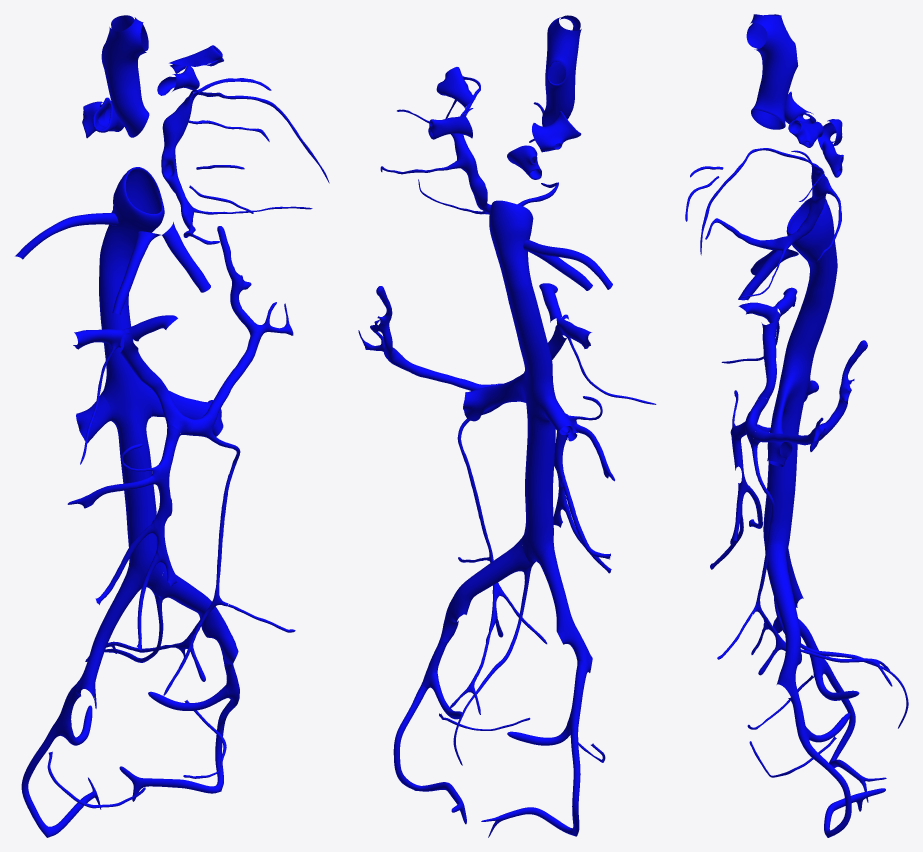
Rendered from female-venous.glb.
3 renders of one model, left to right at view 1: azimuth 30°, elevation 25°; view 2: azimuth 150°, elevation 25°; view 3: azimuth 270°, elevation 25°, orthographic. The views are drawn at different scales.
Visible parts, largest first — view 1: VH_F_inferior_vena_cava_b, VH_F_superior_vena_cava, VH_F_splenic_vein, VH_F_inferior_vena_cava_a, VH_F_left_common_iliac_vein, VH_F_right_common_iliac_vein, VH_F_superior_mesenteric_vein, VH_F_coronary_sinus, VH_F_inferior_mesenteric_vein, VH_F_hepatic_portal_vein, VH_F_right_hepatic_vein, VH_F_left_renal_vein (+17 smaller); view 2: VH_F_inferior_vena_cava_b, VH_F_superior_vena_cava, VH_F_inferior_vena_cava_a, VH_F_left_common_iliac_vein, VH_F_right_common_iliac_vein, VH_F_splenic_vein, VH_F_left_renal_vein, VH_F_coronary_sinus, VH_F_pulmonary_vein_R_sup, VH_F_inferior_mesenteric_vein, VH_F_right_hepatic_vein, VH_F_pulmonary_vein_L_sup (+11 smaller); view 3: VH_F_inferior_vena_cava_b, VH_F_superior_vena_cava, VH_F_left_common_iliac_vein, VH_F_splenic_vein, VH_F_inferior_vena_cava_a, VH_F_left_renal_vein, VH_F_coronary_sinus, VH_F_inferior_mesenteric_vein, VH_F_hepatic_portal_vein, VH_F_superior_mesenteric_vein, VH_F_internal_pudendal_vein_L, VH_F_left_hepatic_vein (+15 smaller).
Boxes of the visible parts, bbox=[...] form: VH_F_inferior_vena_cava_b: bbox=[99, 236, 163, 588]; VH_F_superior_vena_cava: bbox=[101, 15, 149, 137]; VH_F_splenic_vein: bbox=[168, 226, 293, 438]; VH_F_inferior_vena_cava_a: bbox=[105, 167, 164, 251]; VH_F_left_common_iliac_vein: bbox=[150, 564, 238, 665]; VH_F_right_common_iliac_vein: bbox=[76, 568, 142, 699]; VH_F_superior_mesenteric_vein: bbox=[153, 423, 180, 587]; VH_F_coronary_sinus: bbox=[161, 92, 195, 212]; VH_F_inferior_mesenteric_vein: bbox=[171, 433, 240, 656]; VH_F_hepatic_portal_vein: bbox=[120, 333, 174, 423]; VH_F_right_hepatic_vein: bbox=[15, 213, 118, 259]; VH_F_left_renal_vein: bbox=[150, 388, 223, 436]; VH_F_inferior_vena_cava_b: bbox=[501, 269, 556, 564]; VH_F_superior_vena_cava: bbox=[542, 15, 581, 126]; VH_F_inferior_vena_cava_a: bbox=[489, 200, 533, 270]; VH_F_left_common_iliac_vein: bbox=[439, 536, 530, 641]; VH_F_right_common_iliac_vein: bbox=[539, 543, 592, 672]; VH_F_splenic_vein: bbox=[358, 286, 502, 390]; VH_F_left_renal_vein: bbox=[463, 375, 525, 421]; VH_F_coronary_sinus: bbox=[450, 133, 491, 214]; VH_F_pulmonary_vein_R_sup: bbox=[532, 111, 581, 152]; VH_F_inferior_mesenteric_vein: bbox=[457, 404, 502, 633]; VH_F_right_hepatic_vein: bbox=[523, 240, 612, 289]; VH_F_pulmonary_vein_L_sup: bbox=[436, 67, 475, 108]; VH_F_inferior_vena_cava_b: bbox=[763, 252, 837, 554]; VH_F_superior_vena_cava: bbox=[746, 14, 798, 129]; VH_F_left_common_iliac_vein: bbox=[765, 544, 801, 697]; VH_F_splenic_vein: bbox=[745, 340, 867, 451]; VH_F_inferior_vena_cava_a: bbox=[786, 197, 836, 269]; VH_F_left_renal_vein: bbox=[767, 378, 793, 466]; VH_F_coronary_sinus: bbox=[780, 163, 830, 250]; VH_F_inferior_mesenteric_vein: bbox=[751, 446, 801, 651]; VH_F_hepatic_portal_vein: bbox=[756, 311, 780, 400]; VH_F_superior_mesenteric_vein: bbox=[730, 415, 749, 544]; VH_F_internal_pudendal_vein_L: bbox=[803, 743, 851, 837]; VH_F_left_hepatic_vein: bbox=[738, 249, 798, 300].
Bounding box in the file's own units: 0.1889 × 0.5608 × 0.146.
